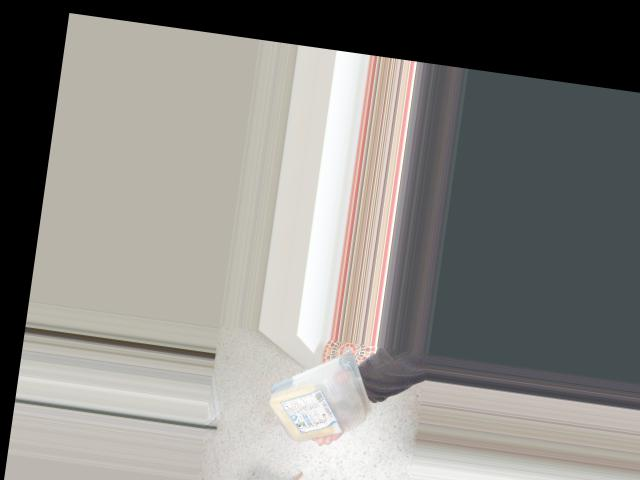cheese: (256, 335, 384, 459)
